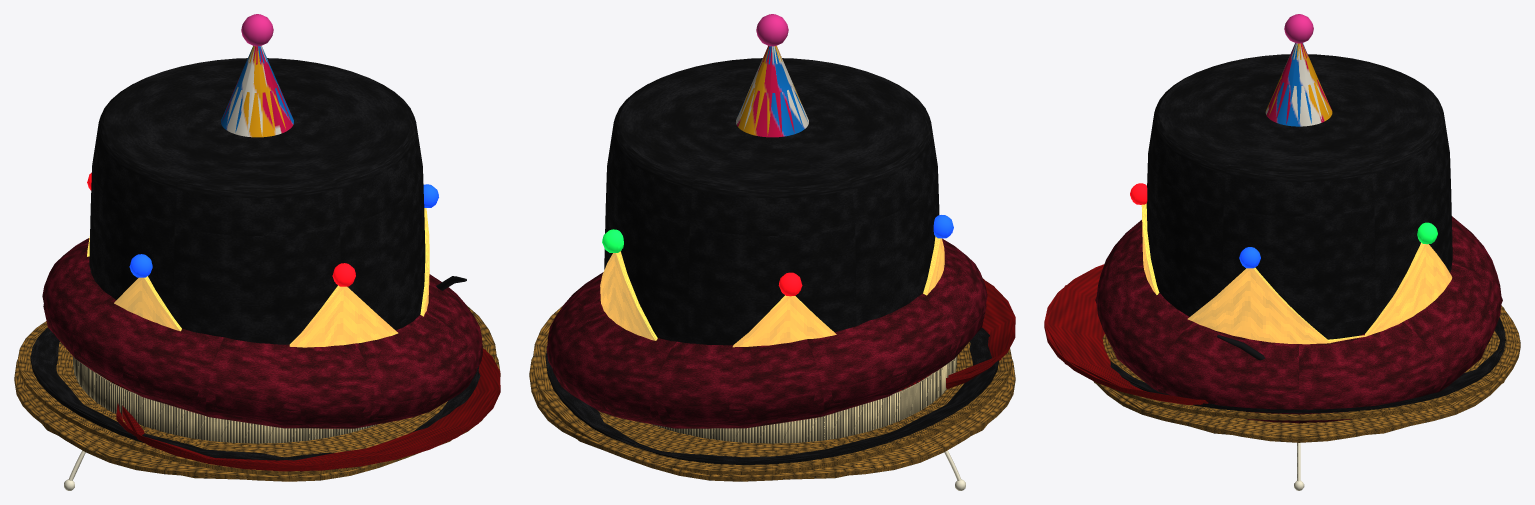
File: chapeus.glb
The picture shows the model from 3 angles, left to right: view 1: azimuth 30°, elevation 25°; view 2: azimuth 150°, elevation 25°; view 3: azimuth 270°, elevation 25°; orthographic projection. The views are drawn at different scales.
Parts seen in each view (by area): view 1: cartola_alta, boina_alta, cartola_baixa, chapeu_palha_alta, coroa_alta, gorro_pompom_alta, boina_baixa, bone_aba_reta_baixa, chapeu_festa_alta, chapeu_panama_baixa, chapeu_panama_alta, bone_aba_reta_alta (+3 smaller); view 2: cartola_alta, boina_alta, chapeu_palha_alta, cartola_baixa, coroa_alta, gorro_pompom_alta, boina_baixa, chapeu_panama_alta, chapeu_panama_baixa, chapeu_festa_alta, chapeu_festa_baixa, bone_aba_reta_baixa (+3 smaller); view 3: cartola_alta, boina_alta, coroa_alta, cartola_baixa, chapeu_palha_alta, bone_aba_reta_baixa, boina_baixa, chapeu_festa_alta, chapeu_panama_alta, chapeu_festa_baixa, chapeu_palha_baixa, chapeu_panama_baixa (+2 smaller).
Part boxes in pixels (x1,y1,x2,y2): cartola_alta: (30, 58, 482, 458); boina_alta: (42, 238, 482, 427); cartola_baixa: (32, 78, 478, 460); chapeu_palha_alta: (14, 357, 500, 481); coroa_alta: (87, 173, 438, 347); gorro_pompom_alta: (73, 356, 377, 443); boina_baixa: (43, 256, 477, 428); bone_aba_reta_baixa: (122, 348, 500, 471); chapeu_festa_alta: (64, 14, 293, 490); chapeu_panama_baixa: (20, 315, 494, 471); chapeu_panama_alta: (17, 276, 497, 475); bone_aba_reta_alta: (116, 348, 500, 471); cartola_alta: (545, 58, 998, 464); boina_alta: (547, 238, 987, 427); chapeu_palha_alta: (529, 357, 1015, 481); cartola_baixa: (550, 78, 996, 462); coroa_alta: (600, 215, 953, 347); gorro_pompom_alta: (652, 356, 956, 443); boina_baixa: (552, 256, 986, 428); chapeu_panama_alta: (532, 305, 1012, 475); chapeu_panama_baixa: (534, 316, 1009, 471); chapeu_festa_alta: (736, 14, 965, 490); chapeu_festa_baixa: (737, 46, 965, 489); bone_aba_reta_baixa: (948, 278, 1015, 377); cartola_alta: (1116, 54, 1505, 413); boina_alta: (1096, 216, 1501, 422); coroa_alta: (1130, 183, 1452, 344); cartola_baixa: (1110, 73, 1505, 409); chapeu_palha_alta: (1094, 317, 1520, 442); bone_aba_reta_baixa: (1044, 267, 1203, 404); boina_baixa: (1095, 230, 1502, 423); chapeu_festa_alta: (1265, 14, 1332, 490); chapeu_panama_alta: (1109, 305, 1517, 420); chapeu_festa_baixa: (1267, 43, 1330, 489); chapeu_palha_baixa: (1093, 307, 1520, 439); chapeu_panama_baixa: (1138, 305, 1516, 416).
Bounding box in the file's own units: 0.0896 × 0.0873 × 0.0963.
Materials: 21 (13 with a texture image).
